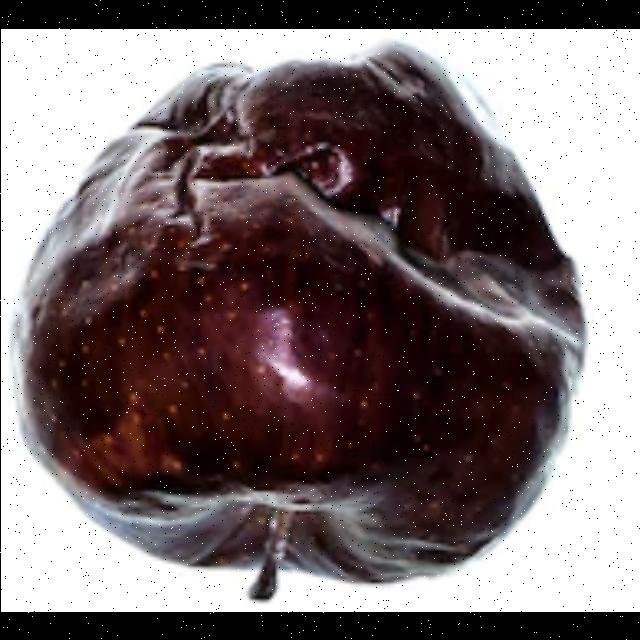Apel Tidak Segar: (0, 53, 594, 594)
